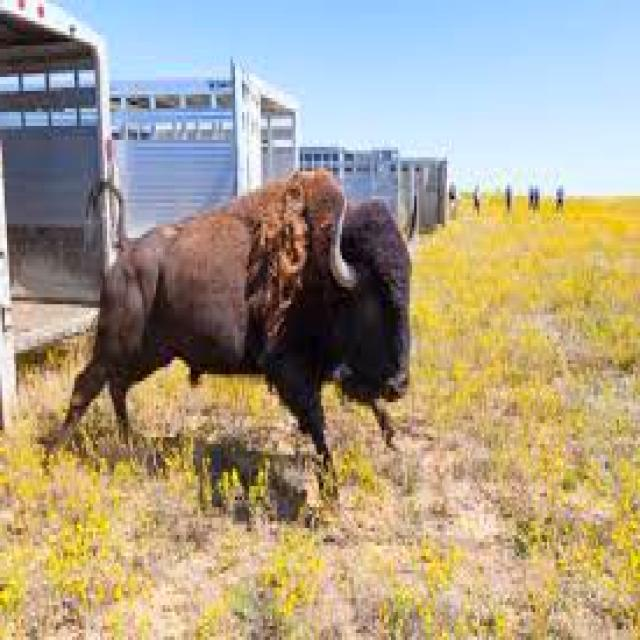bison: (49, 168, 412, 486)
